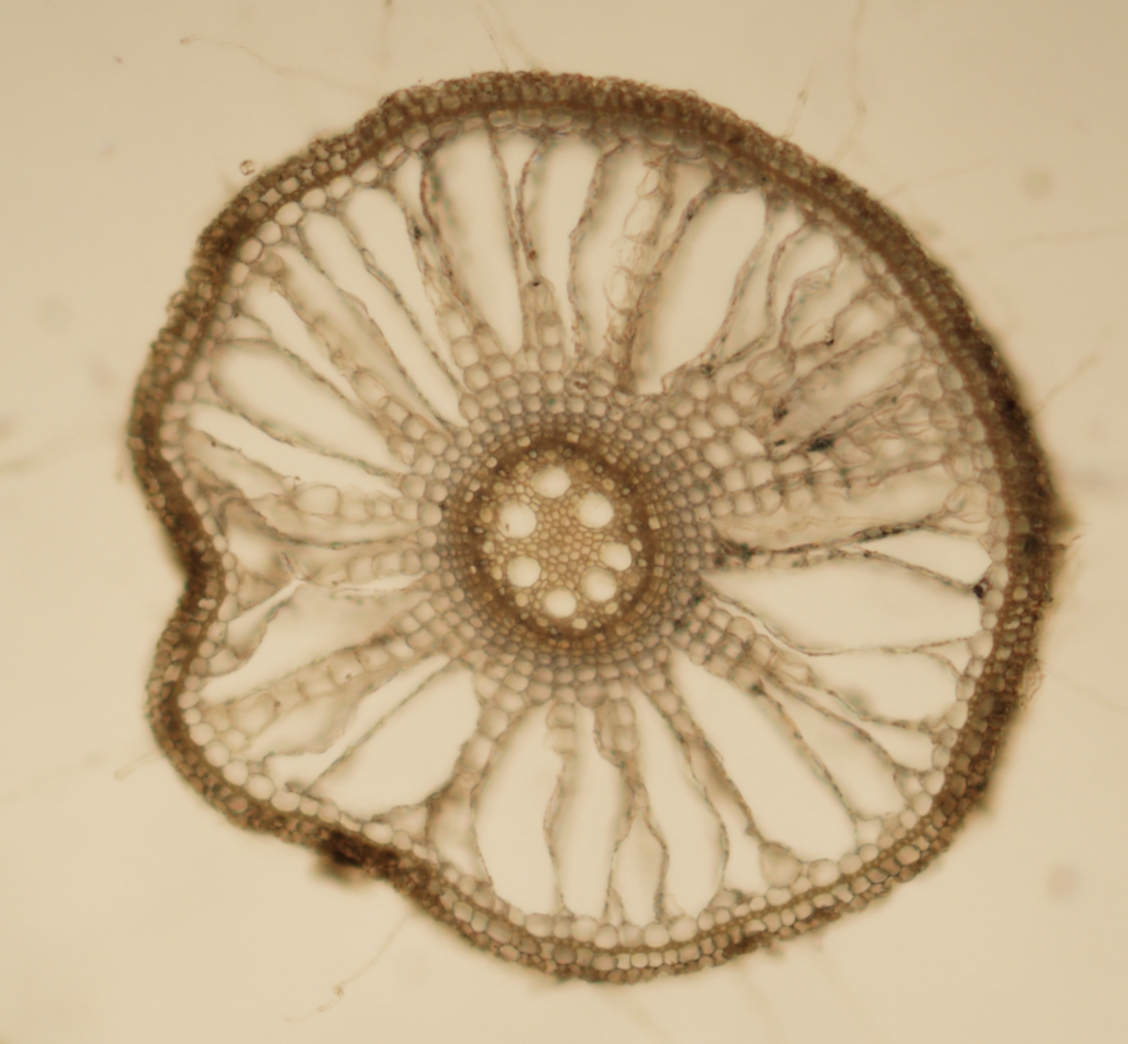lm: (496, 499, 536, 538), (574, 491, 614, 529), (530, 466, 571, 499), (581, 567, 617, 602), (506, 556, 541, 588), (599, 541, 632, 571), (545, 589, 576, 618)
